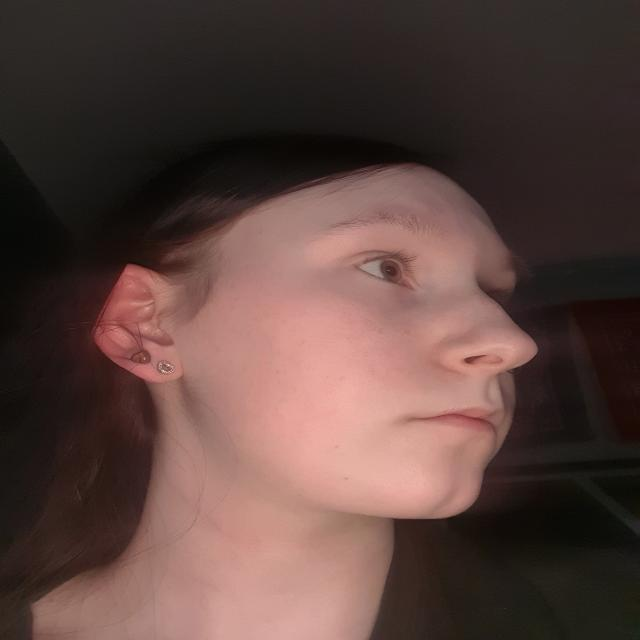Englarged-Pores: (331, 306, 419, 389)
